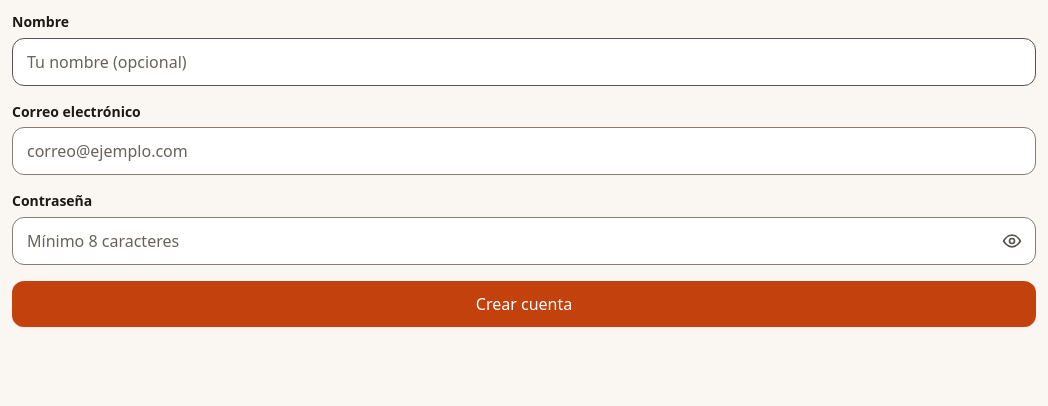
Test: register-form › muestra error, conserva nombre/email y vacía solo contraseña
The image size is (1048, 406).
Type "Nami" into the field labelled "Nombre" at (524, 62), box [12,38,1036,86]
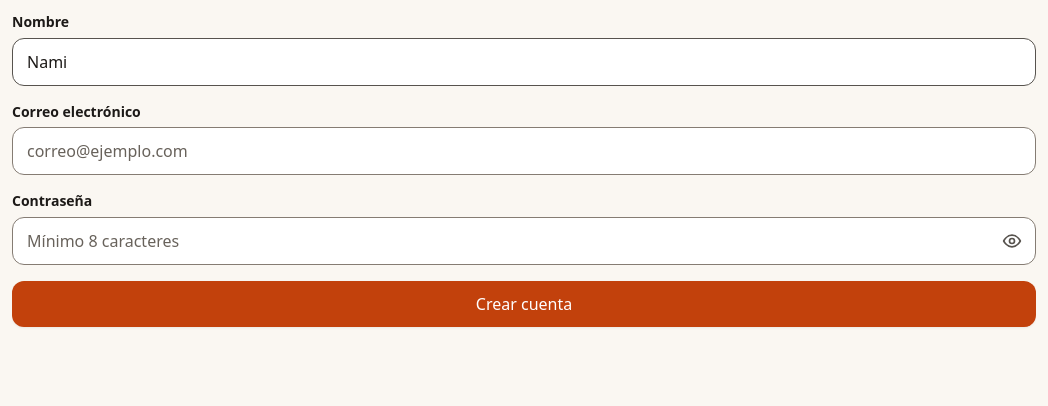
Type "nami@example.com" into the field labelled "Correo electrónico" at (524, 151), box [12,127,1036,175]
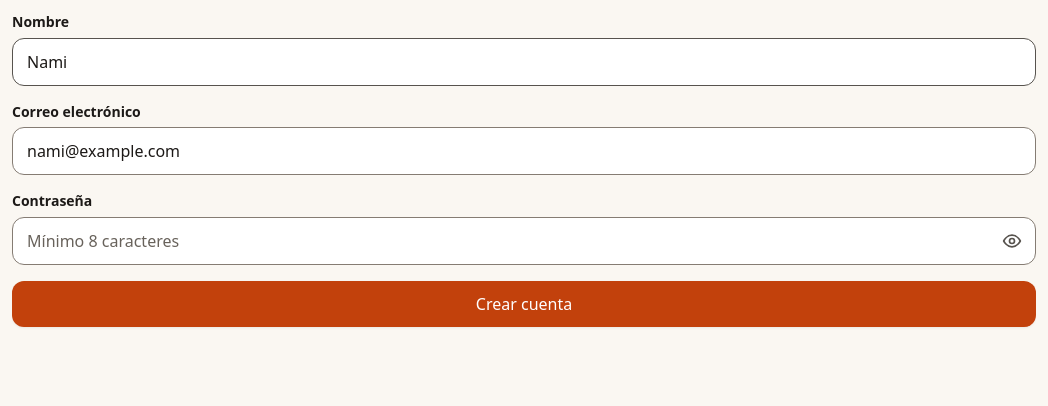
Type "password-123" into the password field named "password" at (524, 241), box [12,217,1036,265]
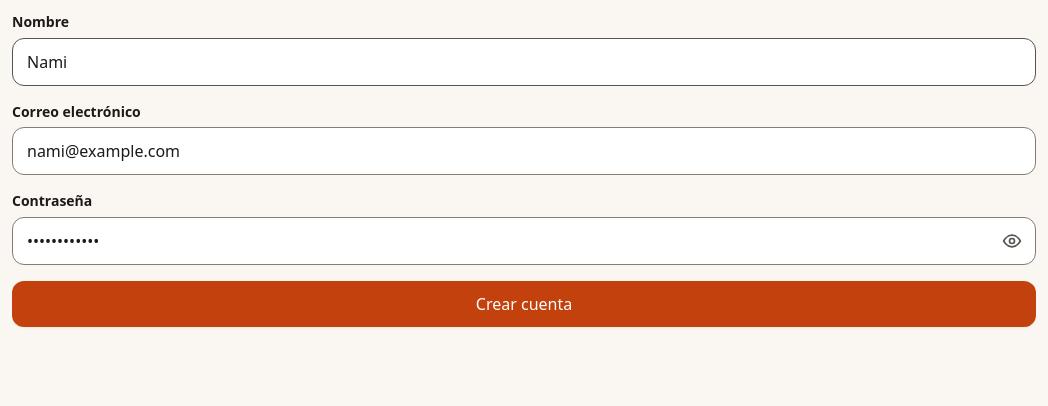
Submit the form "Crear cuenta"
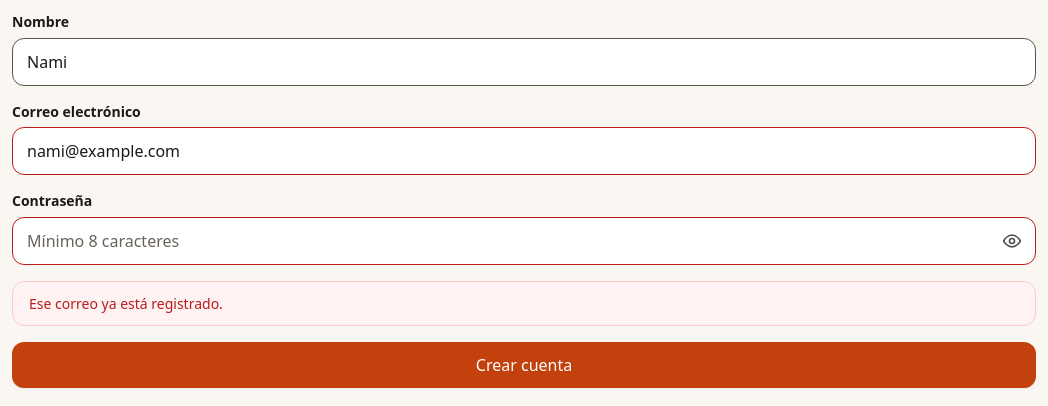
Check: the message shows "Ese correo", box [29,294,223,313]
Check: the password field named "password" is empty, box [12,217,1036,265]
